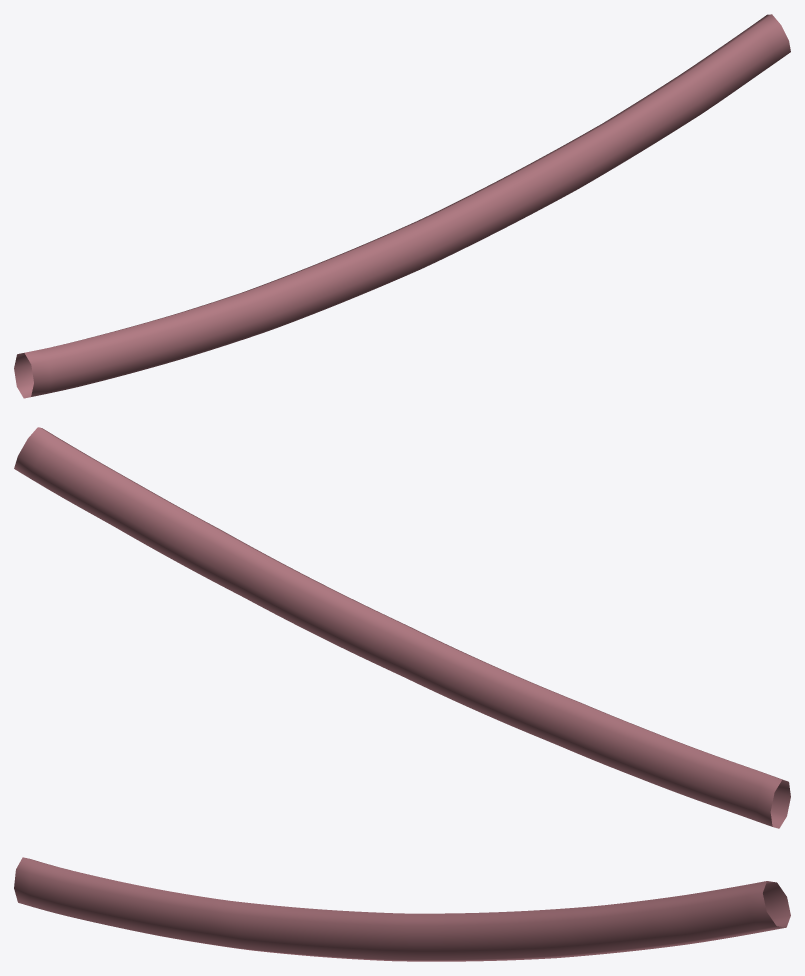
Rendered from male_mouth_ref04_v5.glb.
The picture shows the model from 3 angles, top to bottom: view 1: azimuth 30°, elevation 25°; view 2: azimuth 150°, elevation 25°; view 3: azimuth 330°, elevation 25°; orthographic projection.
Parts seen in each view (by area): view 1: Mouth_Lip; view 2: Mouth_Lip; view 3: Mouth_Lip.
Part boxes in pixels (x1=…): Mouth_Lip: x1=14, y1=14, x2=790, y2=398; Mouth_Lip: x1=14, y1=427, x2=790, y2=828; Mouth_Lip: x1=14, y1=857, x2=790, y2=961.
Size of the model in its own units: 0.087 by 0.023 by 0.00668.
